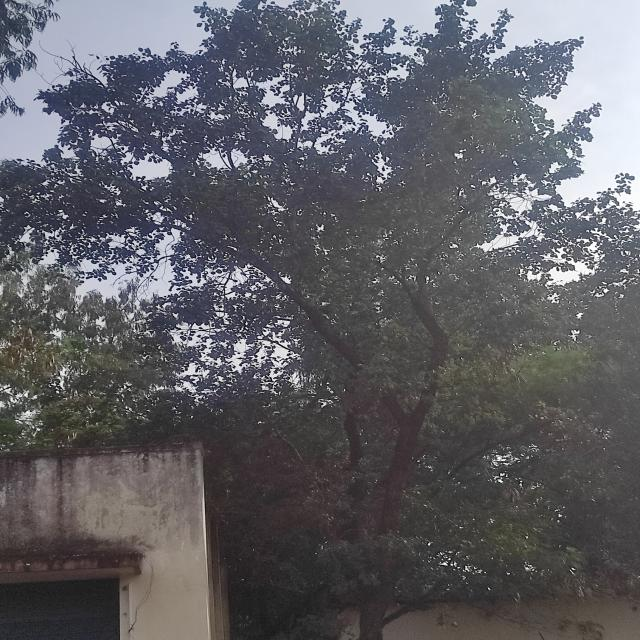Devakanchan tree: (86, 36, 551, 552)
